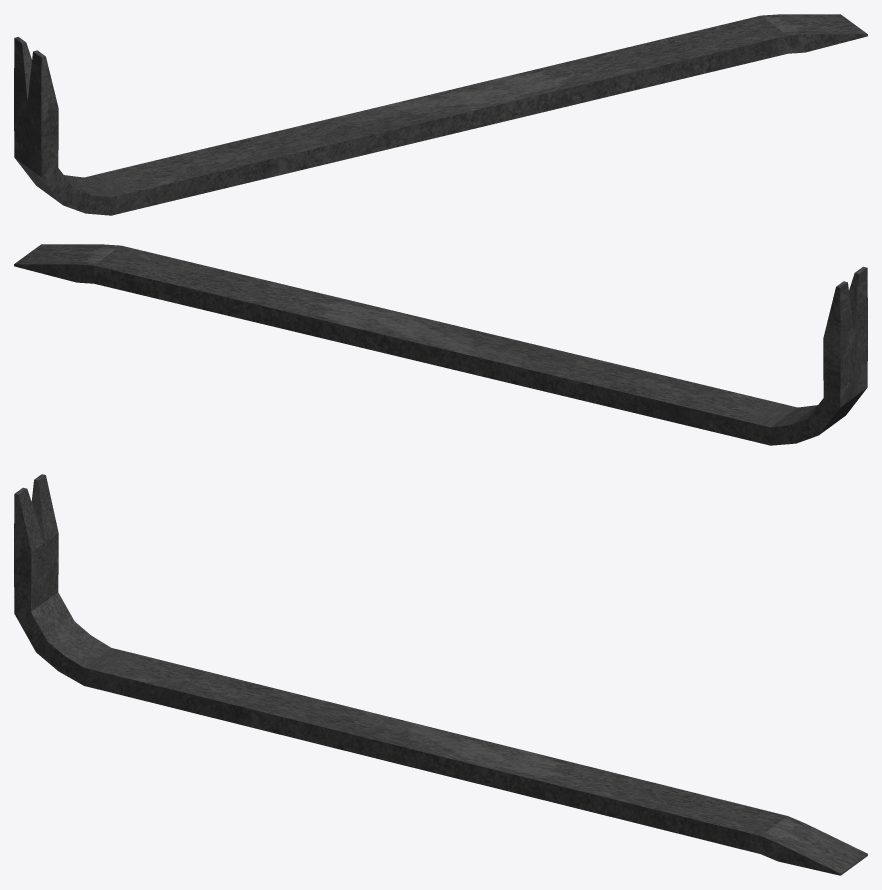
File: pedepracabra.fbx
The picture shows the model from 3 angles, top to bottom: view 1: azimuth 30°, elevation 25°; view 2: azimuth 150°, elevation 25°; view 3: azimuth 330°, elevation 25°; orthographic projection.
Parts seen in each view (by area): view 1: pCube1; view 2: pCube1; view 3: pCube1.
Part boxes in pixels (bbox=[...]): pCube1: bbox=[14, 14, 867, 215]; pCube1: bbox=[14, 244, 867, 445]; pCube1: bbox=[14, 474, 867, 875].
Bounding box in the file's own units: 17.5 × 3.67 × 1.
